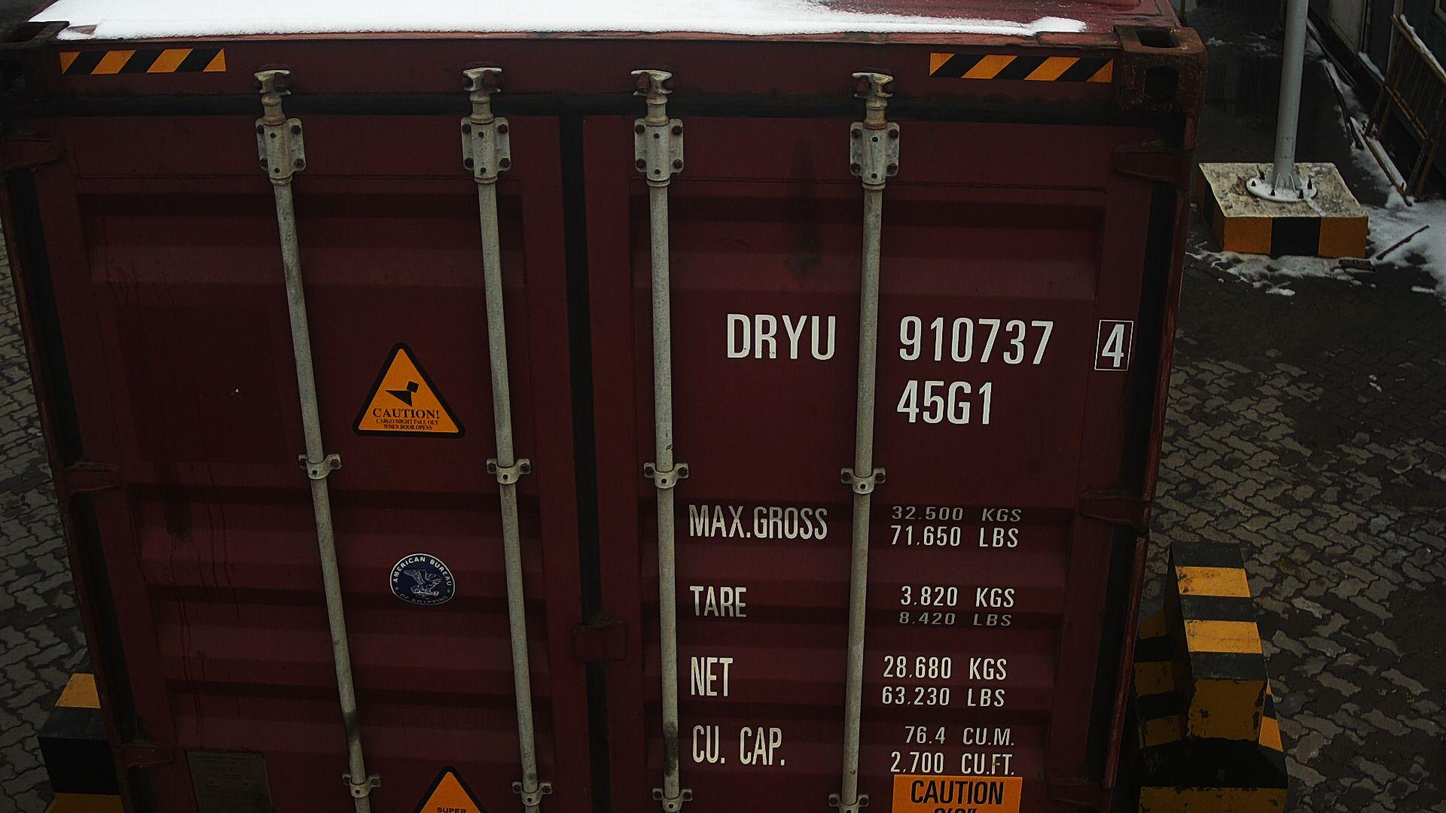container-numbers: (718, 309, 1140, 374), (894, 376, 998, 428)
